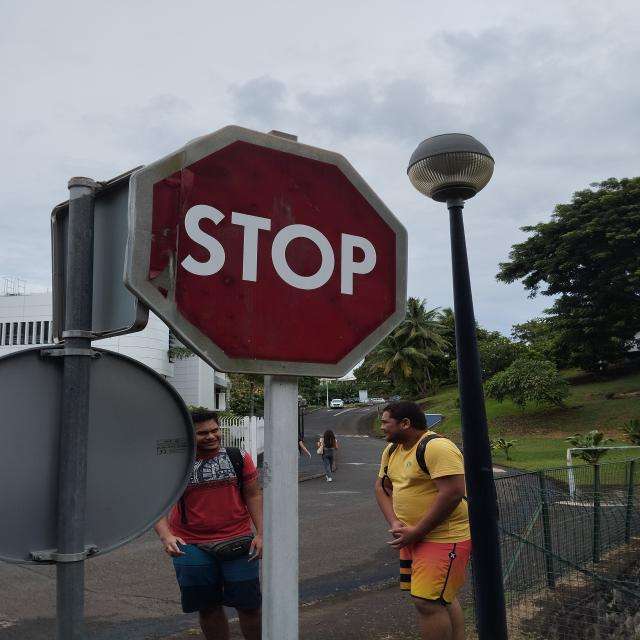Panneau-Stop: (129, 135, 412, 375)
